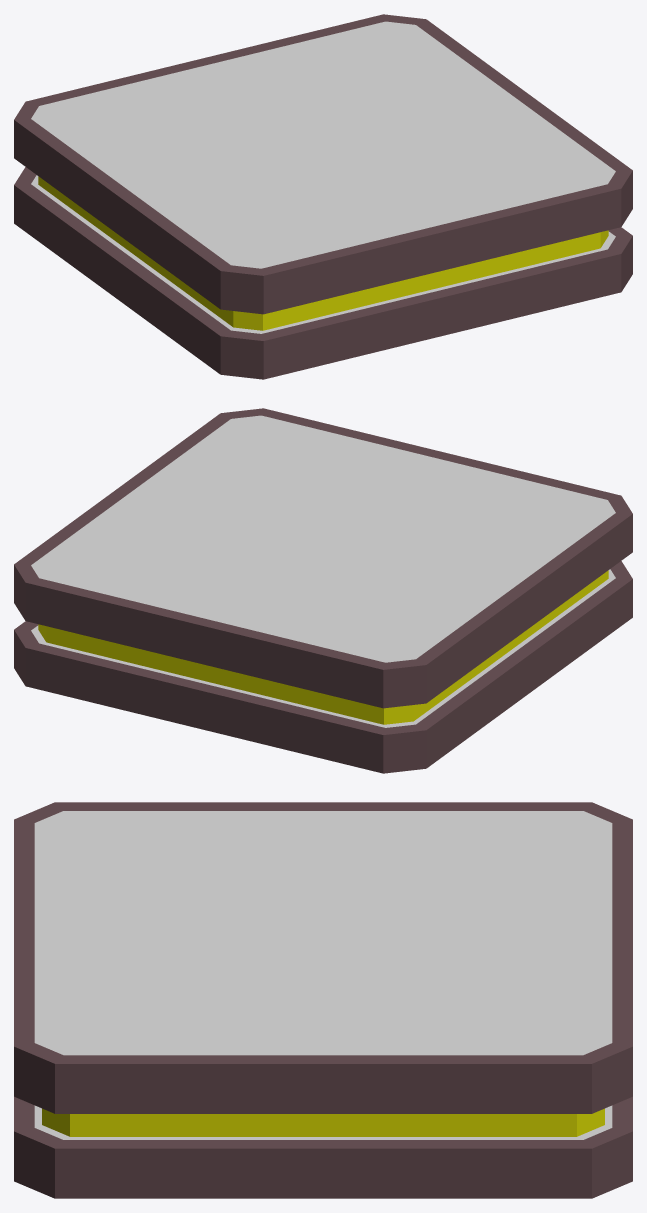
The model's file is GrilledCheeseSandwich.fbx.
3 renders of one model, top to bottom at view 1: azimuth 30°, elevation 25°; view 2: azimuth 150°, elevation 25°; view 3: azimuth 270°, elevation 25°, orthographic. The views are drawn at different scales.
Visible parts, largest first — view 1: GrilledCheeseSandwich; view 2: GrilledCheeseSandwich; view 3: GrilledCheeseSandwich.
Boxes of the visible parts, left/top/right/bottom form: GrilledCheeseSandwich: left=14, top=14, right=632, bottom=379; GrilledCheeseSandwich: left=14, top=408, right=632, bottom=773; GrilledCheeseSandwich: left=14, top=802, right=632, bottom=1198.
Bounding box in the file's own units: 17.09 × 4.11 × 17.09.
